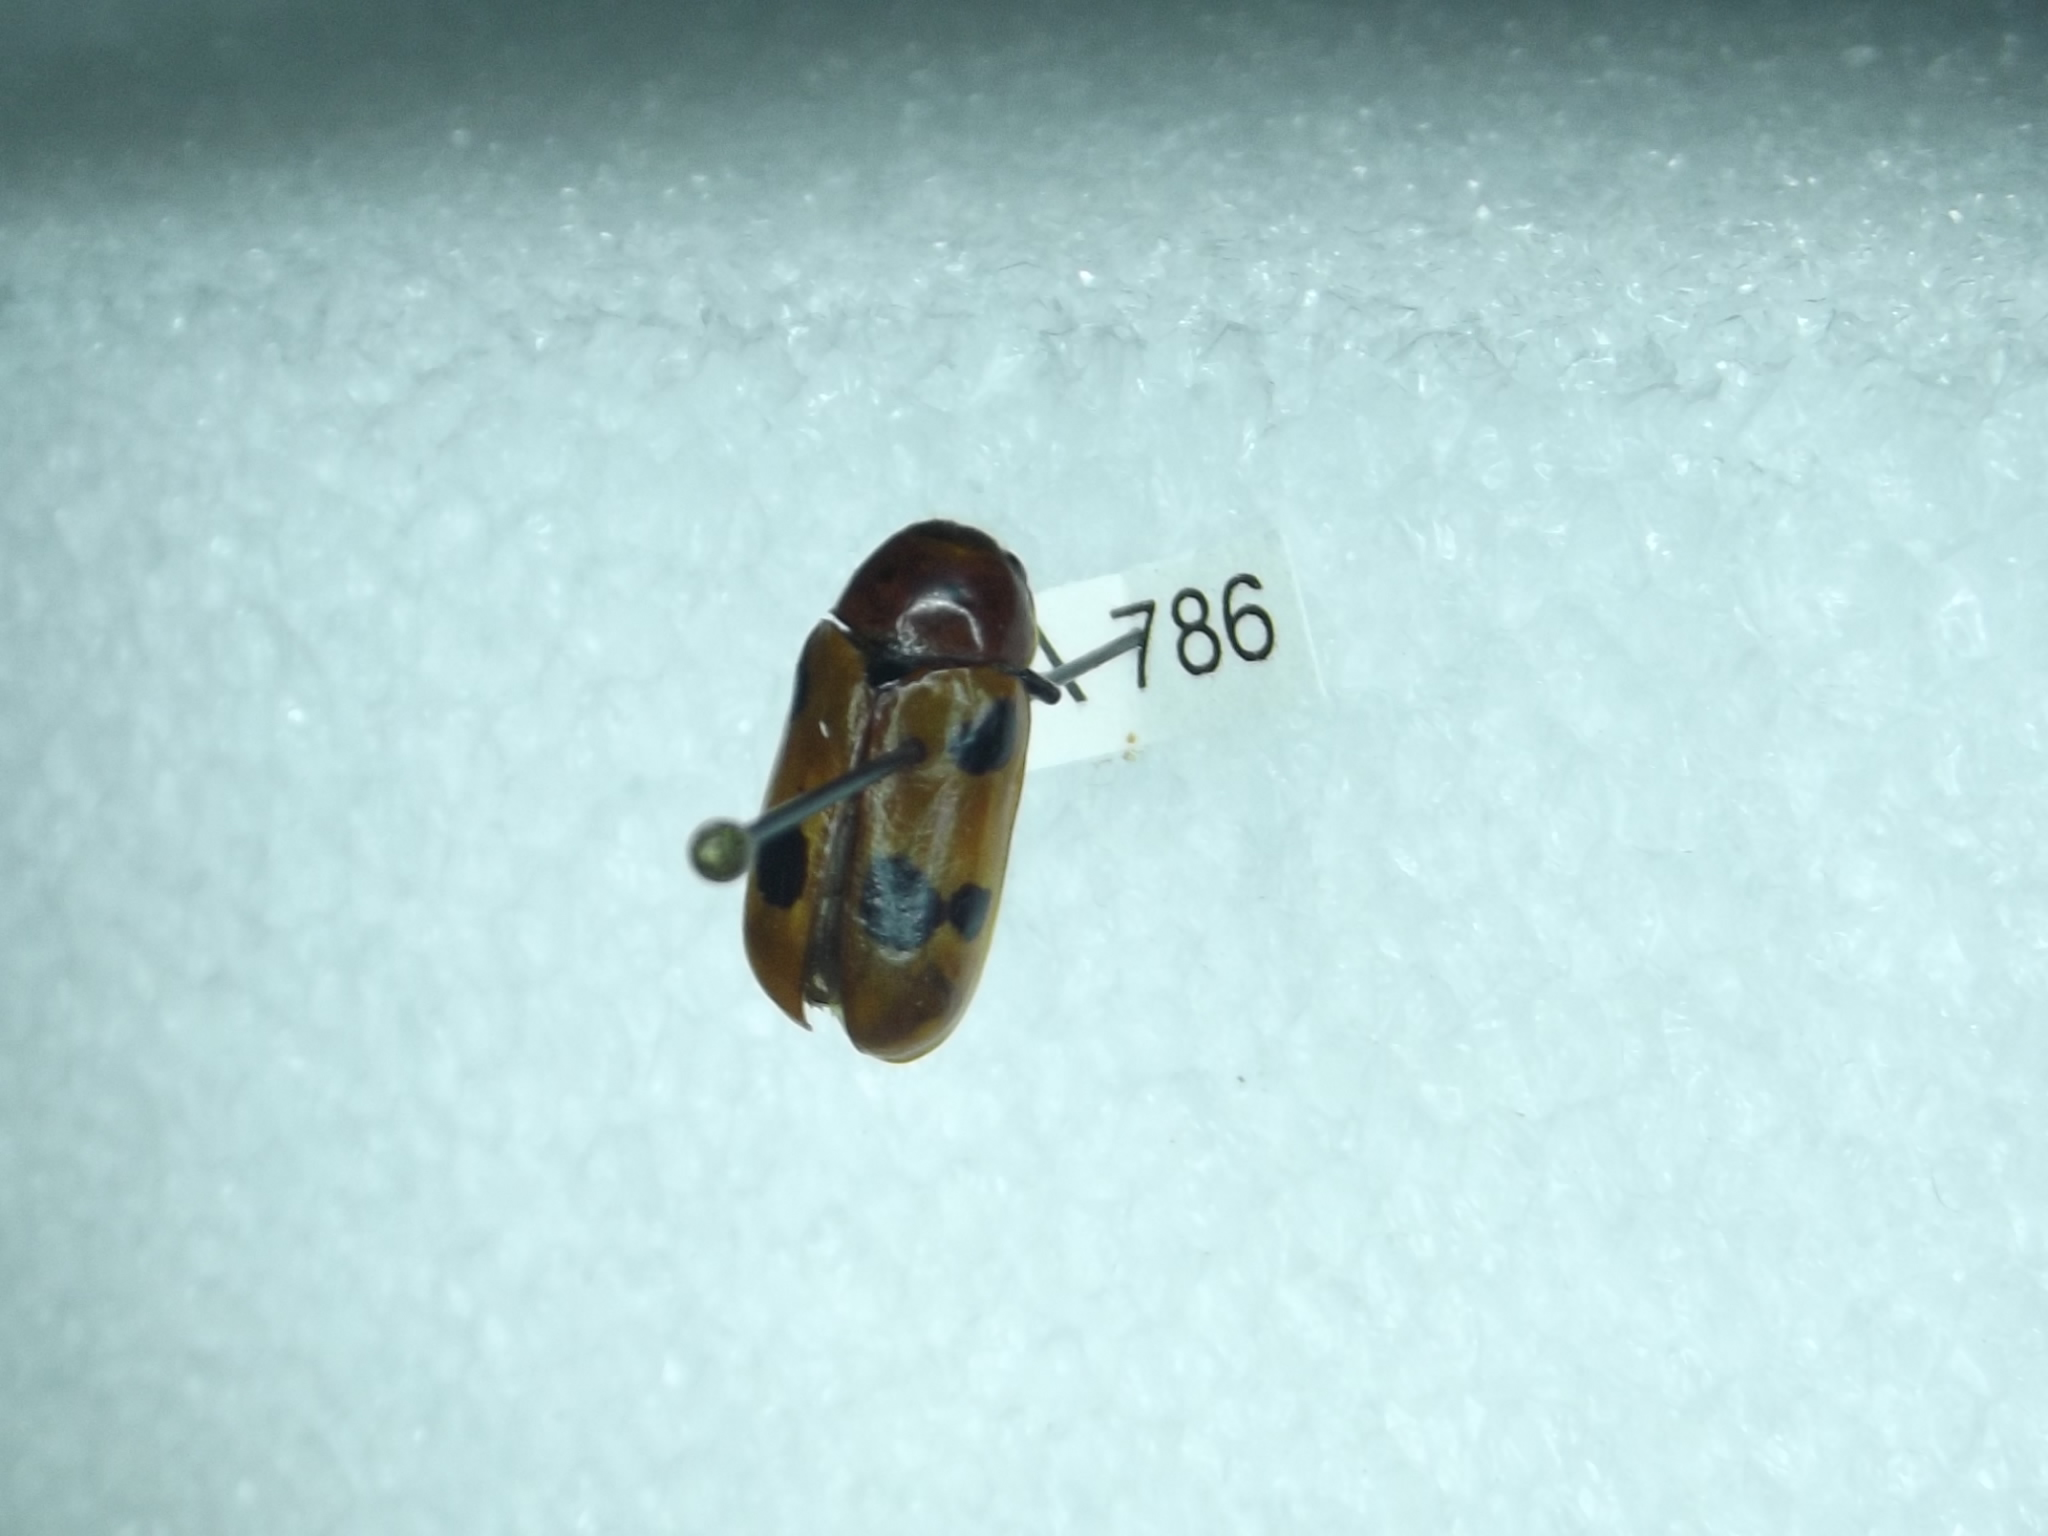Clytra_novempunctata: (705, 482, 1047, 1070)
